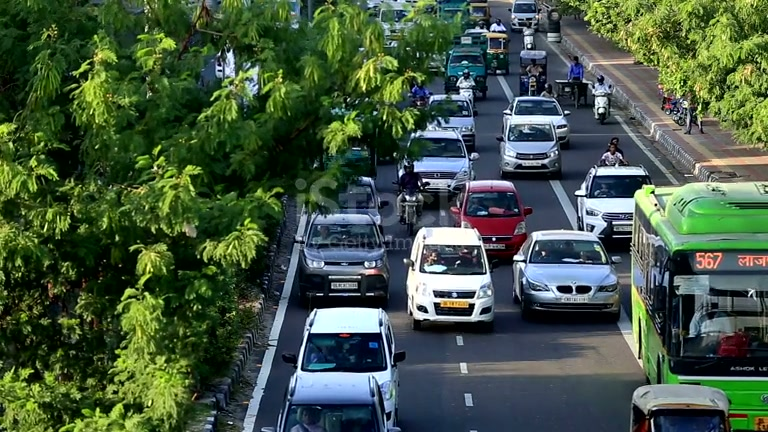bus: (629, 175, 768, 428)
car: (280, 306, 407, 430), (511, 229, 622, 322), (403, 226, 497, 332), (295, 211, 392, 308), (448, 180, 534, 261), (573, 164, 655, 246), (397, 130, 476, 196), (630, 383, 733, 432), (499, 119, 563, 178), (501, 96, 572, 149), (425, 94, 479, 152), (510, 1, 539, 29)
motorcycle: (397, 189, 424, 238), (593, 92, 611, 123)
pedestrian: (395, 161, 425, 222), (568, 55, 586, 107), (684, 93, 706, 135), (291, 406, 326, 432), (598, 137, 627, 166), (593, 74, 612, 110), (568, 55, 585, 84)
truck: (487, 33, 511, 75)
